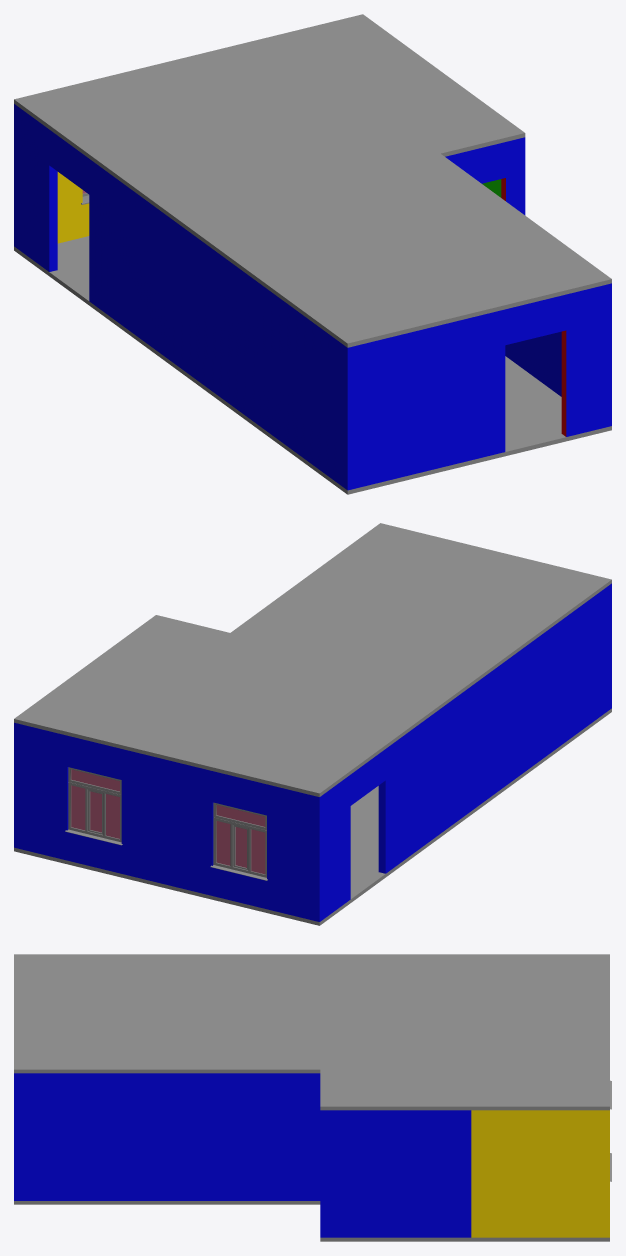
File: Surgery_part.FBX
The picture shows the model from 3 angles, top to bottom: view 1: azimuth 30°, elevation 25°; view 2: azimuth 150°, elevation 25°; view 3: azimuth 270°, elevation 25°; orthographic projection. The views are drawn at different scales.
Parts seen in each view (by area): view 1: SR_walls, SHR_celling, SR_celling, SH_walls, SR_floor, PSR_walls, SHR_floor; view 2: SH_walls, SHR_celling, SR_celling, SR_walls, SHR_floor, Window_01, Window_002, SR_floor; view 3: SHR_celling, SR_walls, SR_celling, PSR_walls, SH_walls, SHR_floor, SR_floor.
Boxes of the visible parts, box(x1,y1,x2,y2) form: SR_walls: box(171, 219, 611, 490); SHR_celling: box(14, 14, 525, 221); SR_celling: box(176, 153, 611, 347); SH_walls: box(14, 104, 171, 361); SR_floor: box(176, 356, 611, 494); PSR_walls: box(445, 137, 525, 215); SHR_floor: box(14, 236, 176, 368); SH_walls: box(14, 696, 457, 921); SHR_celling: box(14, 615, 461, 796); SR_celling: box(230, 523, 611, 692); SR_walls: box(457, 583, 611, 820); SHR_floor: box(14, 795, 461, 925); Window_01: box(210, 802, 267, 880); Window_002: box(65, 767, 122, 845); SR_floor: box(366, 708, 611, 821); SHR_celling: box(320, 954, 609, 1110); SR_walls: box(14, 1073, 320, 1200); SR_celling: box(14, 954, 320, 1073); PSR_walls: box(320, 1110, 471, 1237); SH_walls: box(471, 1110, 609, 1237); SHR_floor: box(320, 1237, 609, 1241); SR_floor: box(14, 1201, 320, 1204).
Size of the model in its own units: 855 by 354 by 1421.
